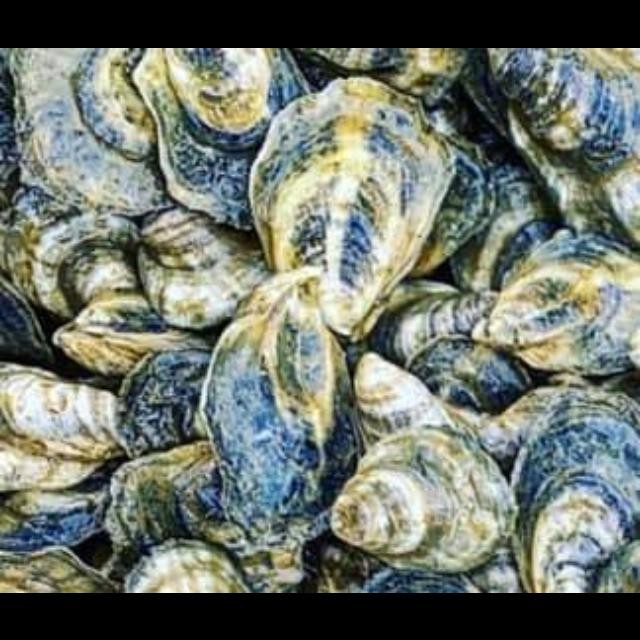Oyster-Closed: (251, 76, 453, 337), (200, 265, 364, 545), (132, 47, 312, 228), (488, 47, 640, 257), (108, 437, 304, 592), (328, 424, 521, 573), (509, 388, 640, 592), (13, 47, 174, 212), (492, 232, 640, 369), (450, 142, 571, 290), (141, 203, 269, 327), (56, 292, 208, 376), (413, 127, 497, 277), (313, 534, 527, 592), (0, 362, 129, 457), (30, 211, 143, 316), (292, 47, 478, 104), (355, 351, 456, 451), (368, 283, 495, 362), (406, 332, 532, 411), (439, 386, 558, 463), (126, 350, 211, 451), (0, 486, 120, 547), (0, 429, 102, 496), (123, 541, 256, 592), (0, 546, 125, 592), (0, 273, 59, 366)
